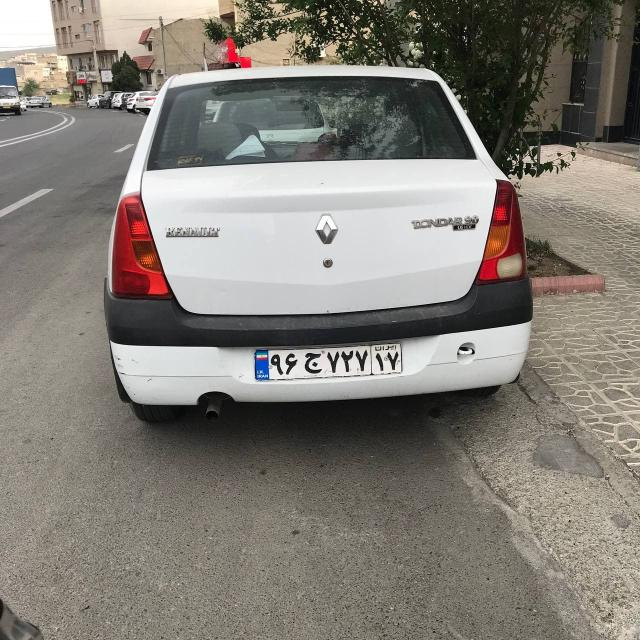Plates: (254, 341, 403, 380)
